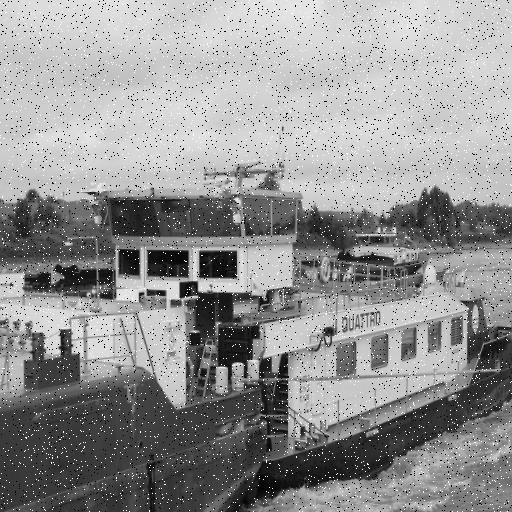tugboat: (54, 157, 512, 504)
